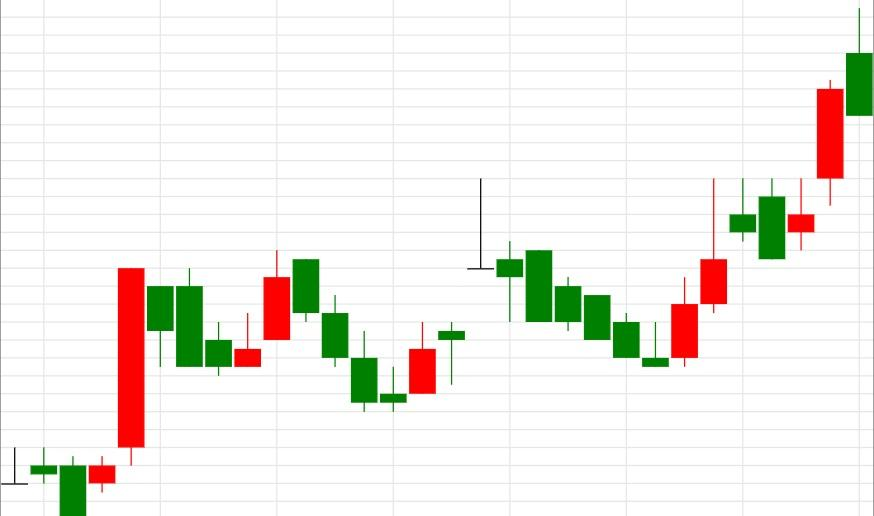inverse_hammer_rise: (146, 267, 262, 377)
morning_star_rise: (468, 177, 699, 368)
three_black_crows_fall: (205, 249, 378, 412)
